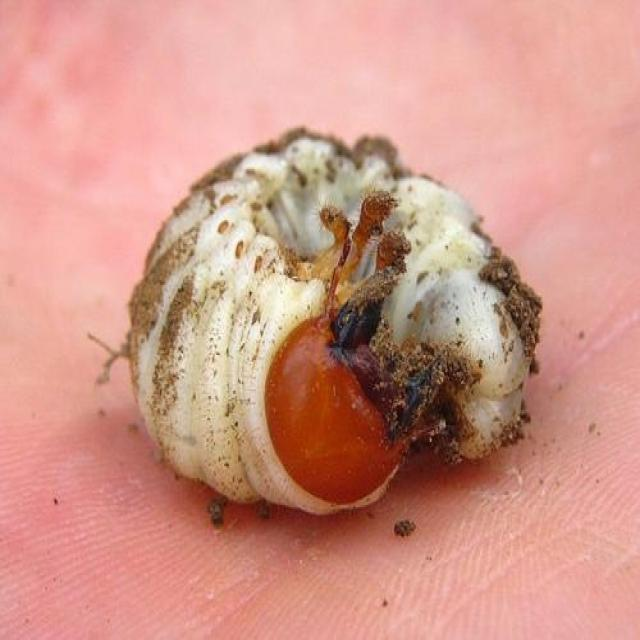grub: (118, 119, 568, 525)
